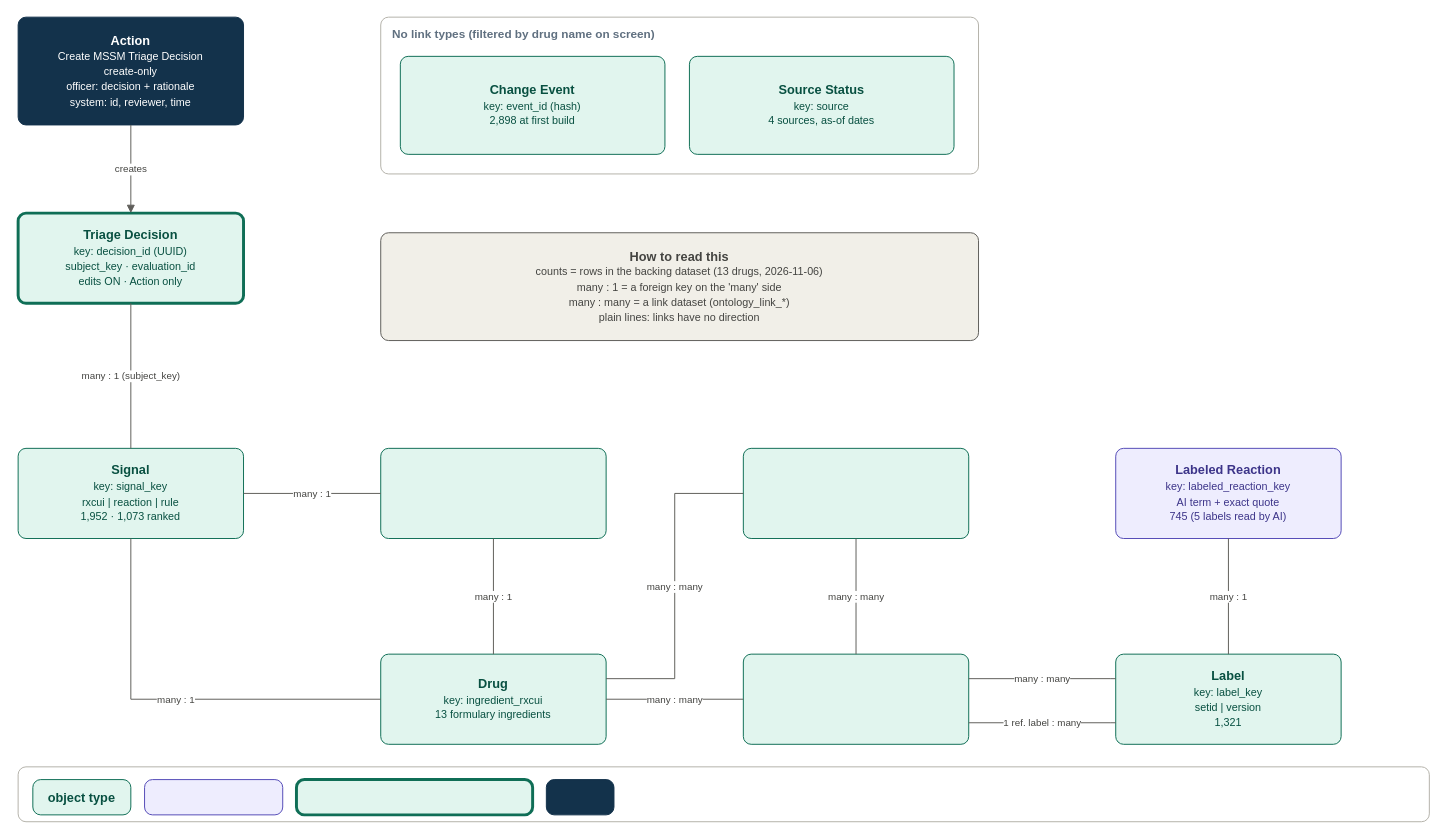
The diagram is 1446 pixels wide and 839 high, and some of its shapes have lost their labels. Each missing label, with the centre of its shape:
Action: the point at 579,797
AE Stat key: stat_key a, b, c, d · PRR · chi² 14,921: the point at 493,493
object built by AI: the point at 213,797
Product key: product_key = application number 658: the point at 855,698
Recall key: recall_number 900 · 126 active: the point at 855,493
written by people (thick border): the point at 414,797
